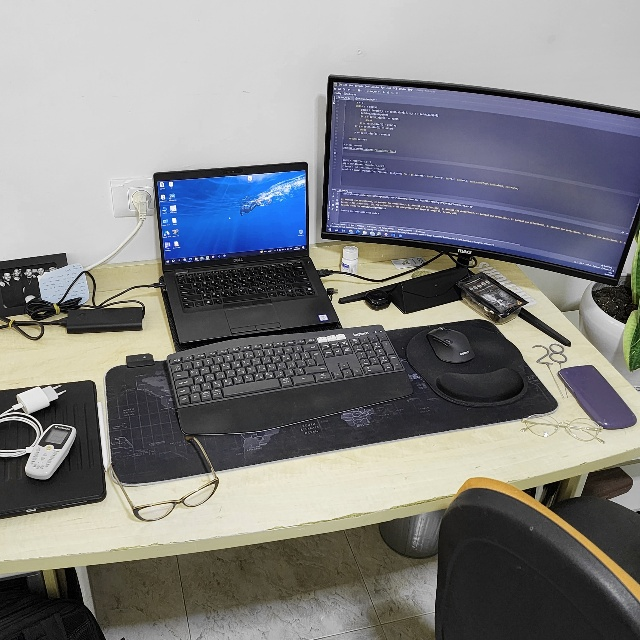glasses: (109, 434, 224, 524), (516, 407, 608, 448)
